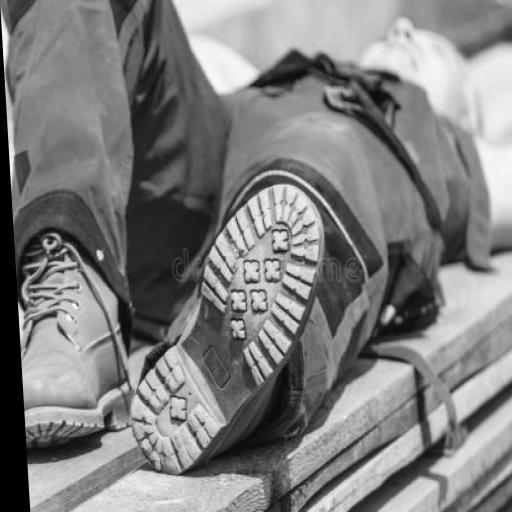safety_boots: (152, 164, 329, 501), (16, 246, 105, 462)
